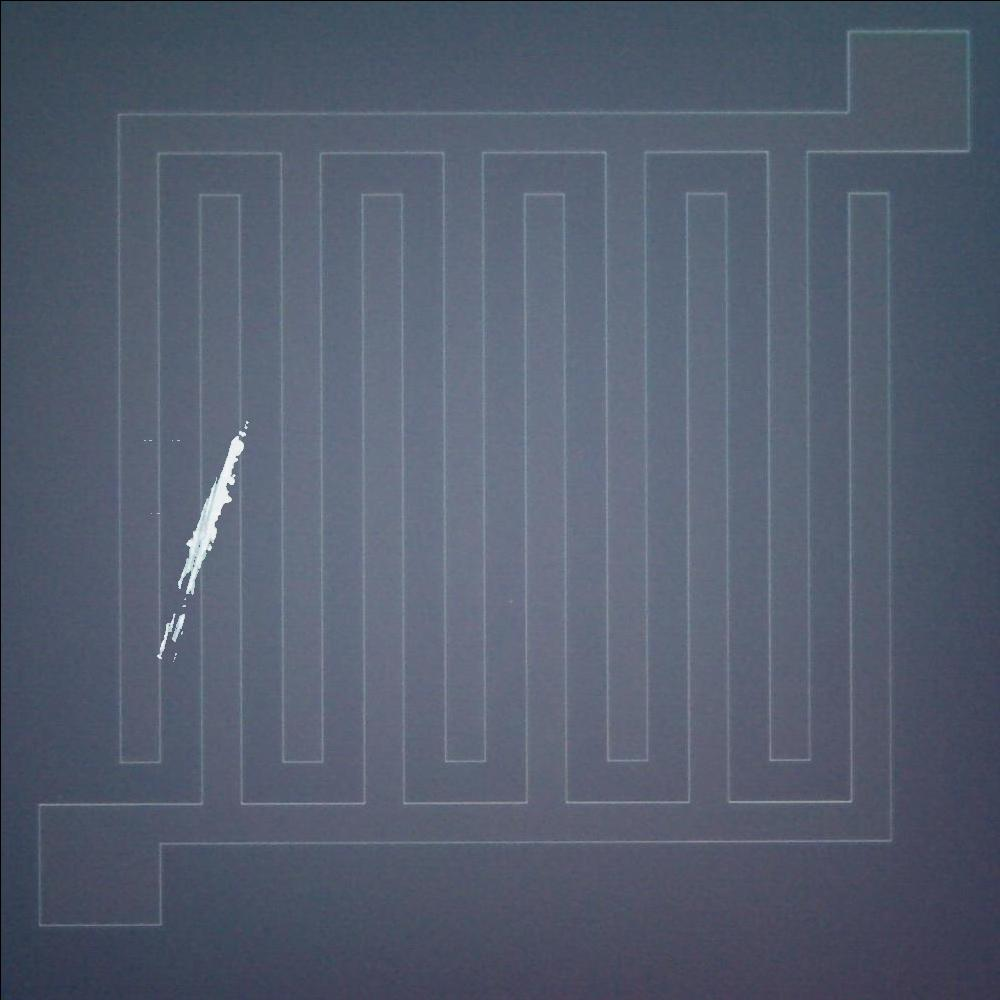scratch: (142, 410, 260, 674)
